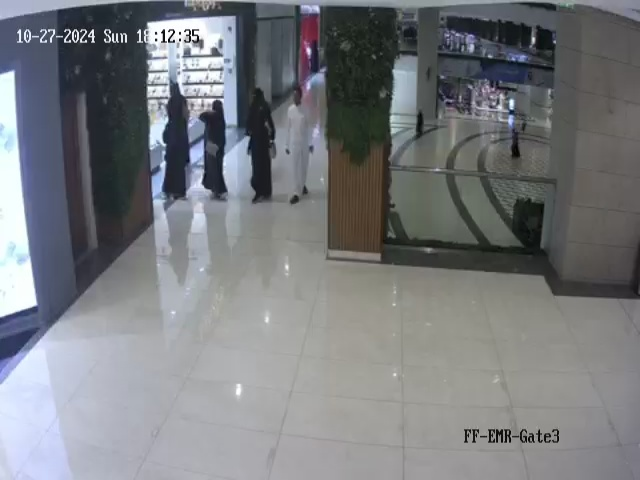female: (244, 87, 277, 204), (159, 83, 191, 201), (198, 100, 229, 201), (505, 124, 527, 166), (307, 34, 320, 76), (414, 103, 427, 141)
male: (284, 85, 315, 205)
